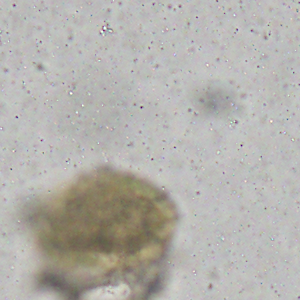Fasciola_hepatica_egg: (29, 166, 180, 269)
